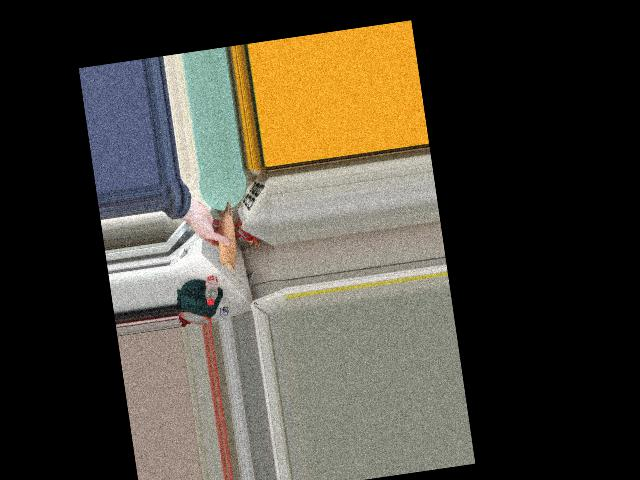sweet_potato: (207, 199, 241, 274)
